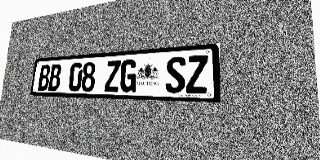0: (68, 62, 83, 91)
8: (81, 62, 96, 92)
B: (37, 64, 51, 91), (48, 64, 62, 91)
G: (119, 59, 137, 92)
S: (165, 56, 186, 93)
Z: (186, 55, 208, 94), (104, 60, 121, 92)
